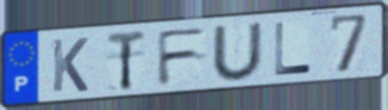7: (328, 11, 370, 75)
F: (154, 25, 211, 88)
K: (50, 36, 91, 94)
L: (273, 21, 315, 78)
T: (105, 28, 148, 93)
U: (210, 20, 265, 82)
